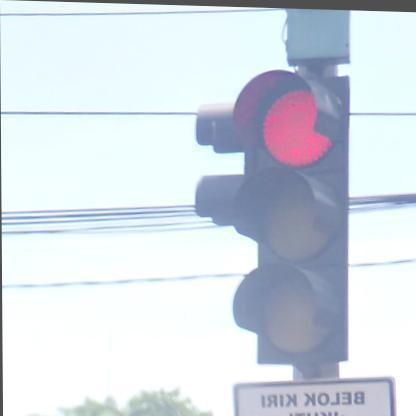red: (229, 63, 353, 362)
